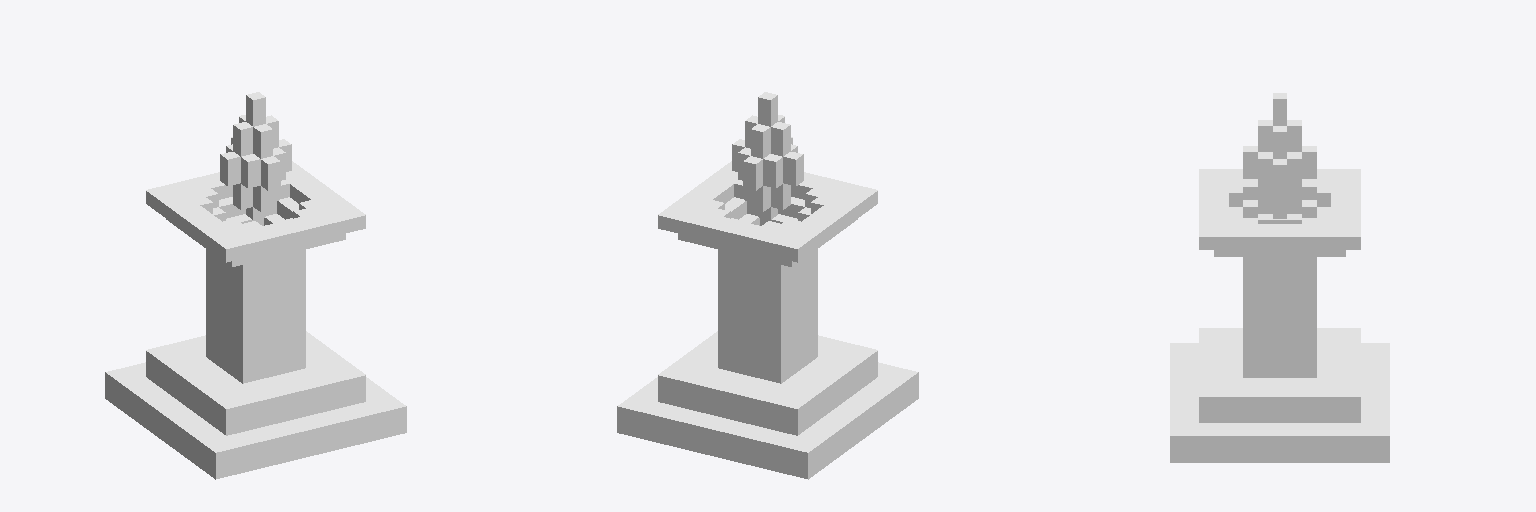
File: Portal_1.4.1.obj
3 views of the same model, side by side, from view 1: azimuth 30°, elevation 25°; view 2: azimuth 150°, elevation 25°; view 3: azimuth 270°, elevation 25° (orthographic).
Visible parts, largest first — view 1: object 1; view 2: object 1; view 3: object 1.
Part boxes in pixels (x1,y1,x2,y2): object 1: (105, 92, 406, 479); object 1: (617, 92, 918, 479); object 1: (1170, 93, 1389, 462).
Bounding box in the file's own units: 1.5 × 2.4 × 1.5.